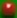red: (0, 0, 17, 18)
